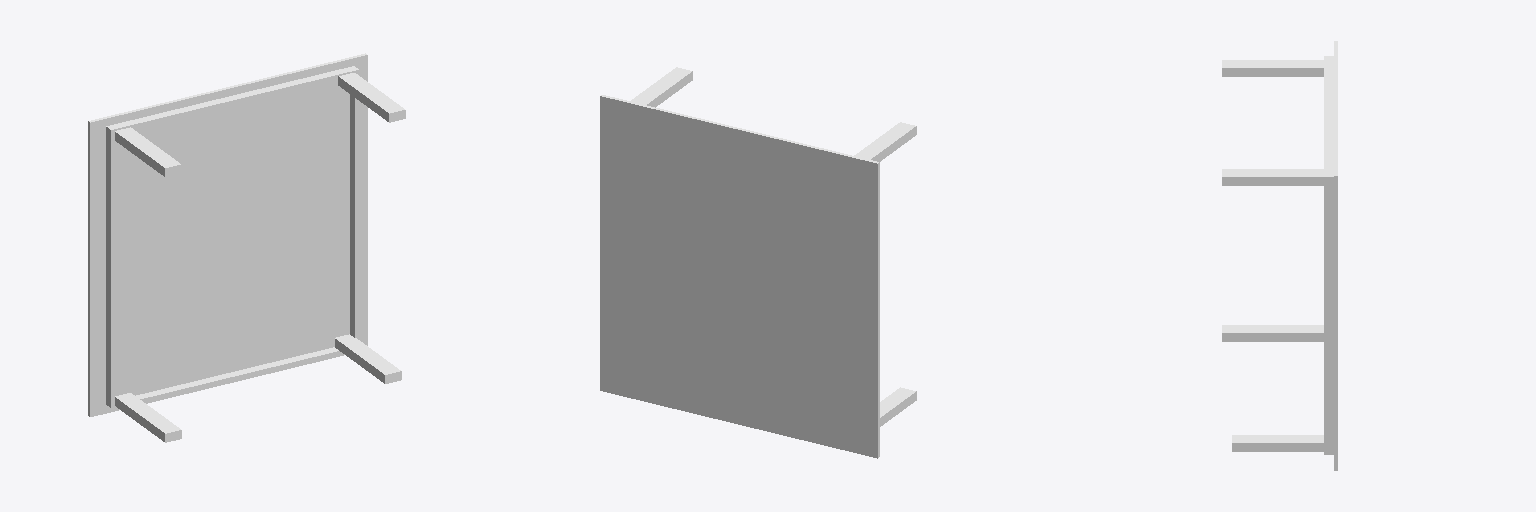
The model's file is table.obj.
3 views of the same model, side by side, from view 1: azimuth 30°, elevation 25°; view 2: azimuth 150°, elevation 25°; view 3: azimuth 270°, elevation 25° (orthographic).
Visible parts, largest first — view 1: pCube1, pCube3, pCube4, pCube5, pCube7, pCube2, pCube8, pCube9, pCube6; view 2: pCube1, pCube7, pCube2, pCube8; view 3: pCube4, pCube7, pCube2, pCube8, pCube1, pCube9, pCube5.
Boxes of the visible parts, box(x1,y1,x2,y2) form: pCube1: box(88, 53, 367, 416); pCube3: box(106, 126, 114, 406); pCube4: box(350, 72, 357, 338); pCube5: box(110, 66, 358, 130); pCube7: box(338, 73, 405, 122); pCube2: box(115, 127, 181, 177); pCube8: box(115, 393, 181, 442); pCube9: box(335, 334, 401, 383); pCube6: box(106, 347, 339, 407); pCube1: box(600, 95, 879, 458); pCube7: box(631, 67, 692, 107); pCube2: box(854, 122, 916, 161); pCube8: box(880, 387, 916, 426); pCube4: box(1324, 179, 1333, 454); pCube7: box(1222, 169, 1323, 185); pCube2: box(1222, 60, 1323, 76); pCube8: box(1222, 325, 1323, 341); pCube1: box(1334, 41, 1337, 470); pCube9: box(1232, 435, 1323, 451); pCube5: box(1324, 58, 1333, 178).
Size of the model in its own units: 157 by 160 by 57.19.